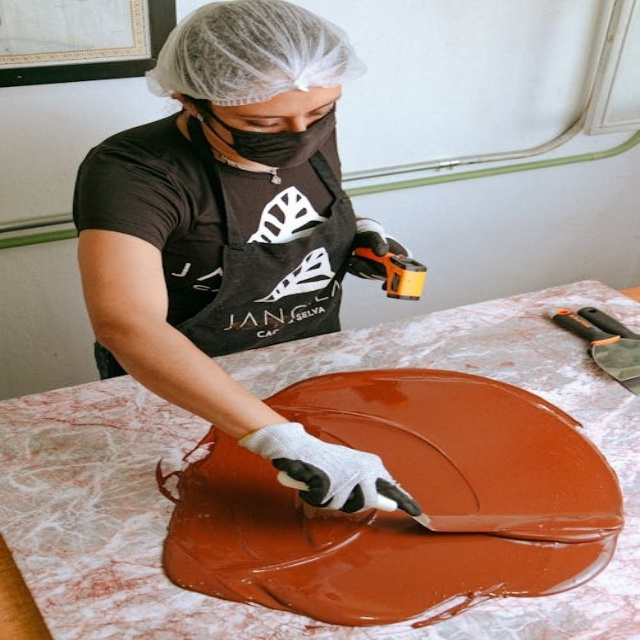Guantes: (239, 421, 417, 518), (346, 217, 414, 281)
Mascara: (194, 101, 335, 171)
Sin_gafas: (227, 94, 343, 130)
